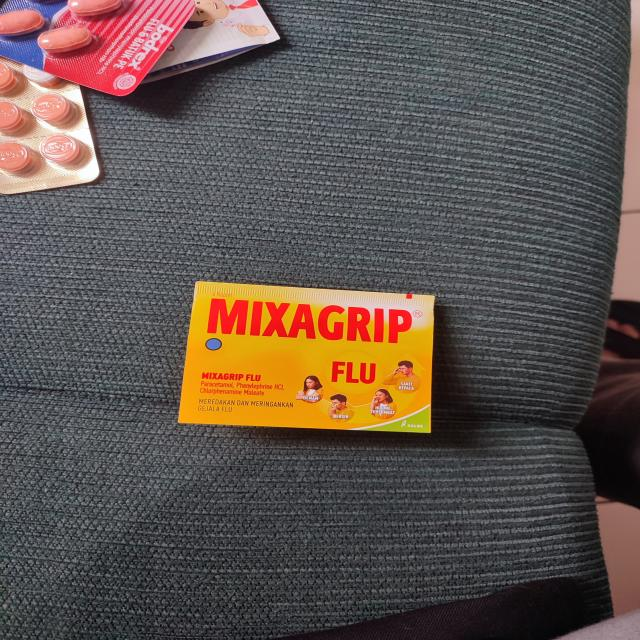B3: (181, 279, 433, 433), (0, 0, 198, 97), (0, 56, 103, 195)
